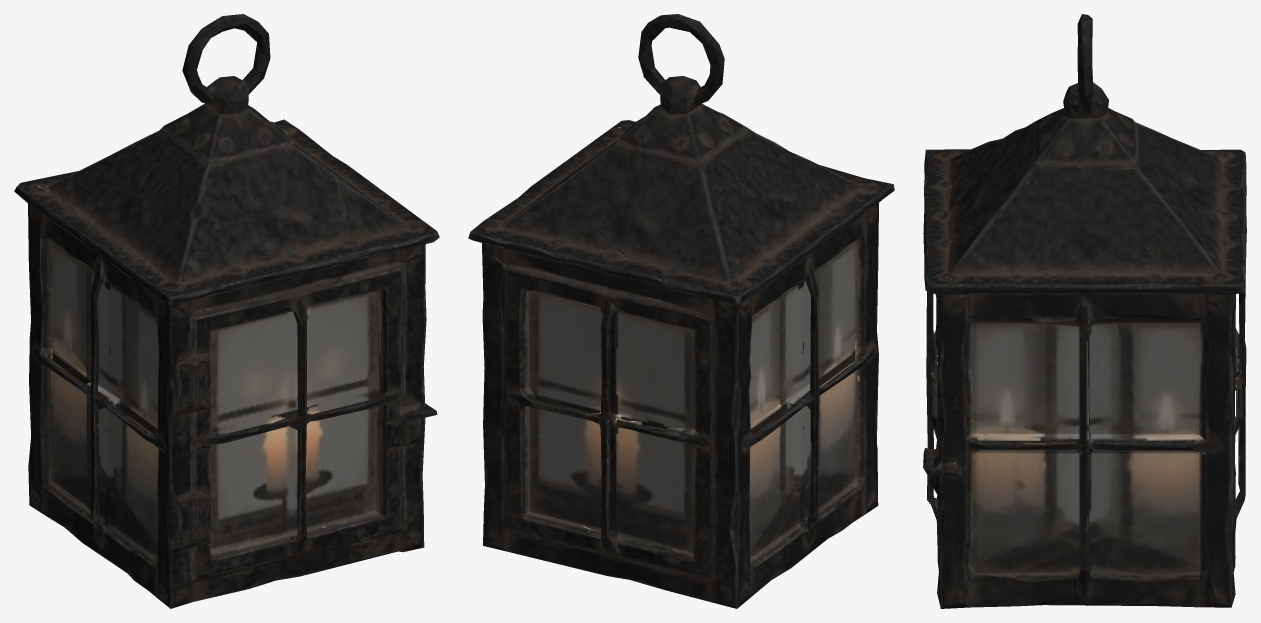
Rendered from lantern.glb.
3 renders of one model, left to right at view 1: azimuth 30°, elevation 25°; view 2: azimuth 150°, elevation 25°; view 3: azimuth 270°, elevation 25°, orthographic. The views are drawn at different scales.
Visible parts, largest first — view 1: lo; view 2: lo; view 3: lo.
Boxes of the visible parts, bbox=[...] form: lo: bbox=[14, 14, 439, 608]; lo: bbox=[468, 14, 894, 608]; lo: bbox=[923, 14, 1246, 608].
Bounding box in the file's own units: 0.3068 × 0.5482 × 0.306.
Materials: 1 (1 with a texture image).
